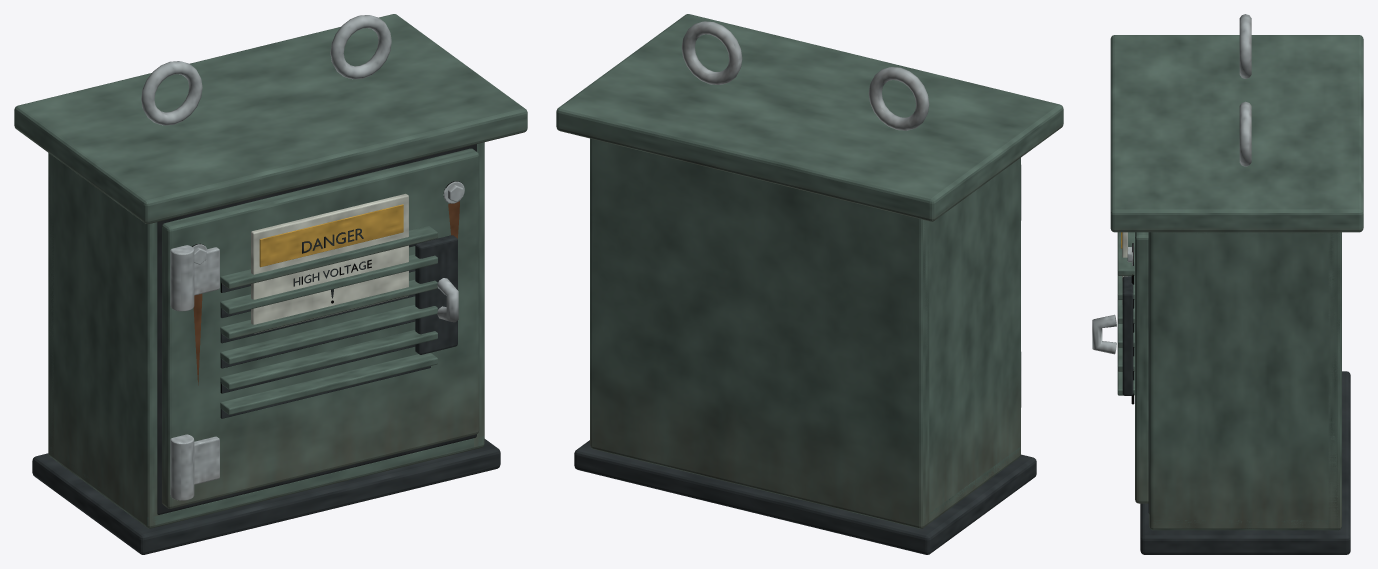
File: GR_JunctionBox_01.glb
3 views of the same model, side by side, from view 1: azimuth 30°, elevation 25°; view 2: azimuth 150°, elevation 25°; view 3: azimuth 270°, elevation 25° (orthographic). The views are drawn at different scales.
Visible parts, largest first — view 1: Static; view 2: Static; view 3: Static.
Part boxes in pixels (x1,y1,x2,y2): Static: (14, 14, 527, 554); Static: (556, 14, 1063, 554); Static: (1092, 14, 1363, 554).
Bounding box in the file's own units: 0.59 × 0.6545 × 0.3804.
Materials: 1 (1 with a texture image).
